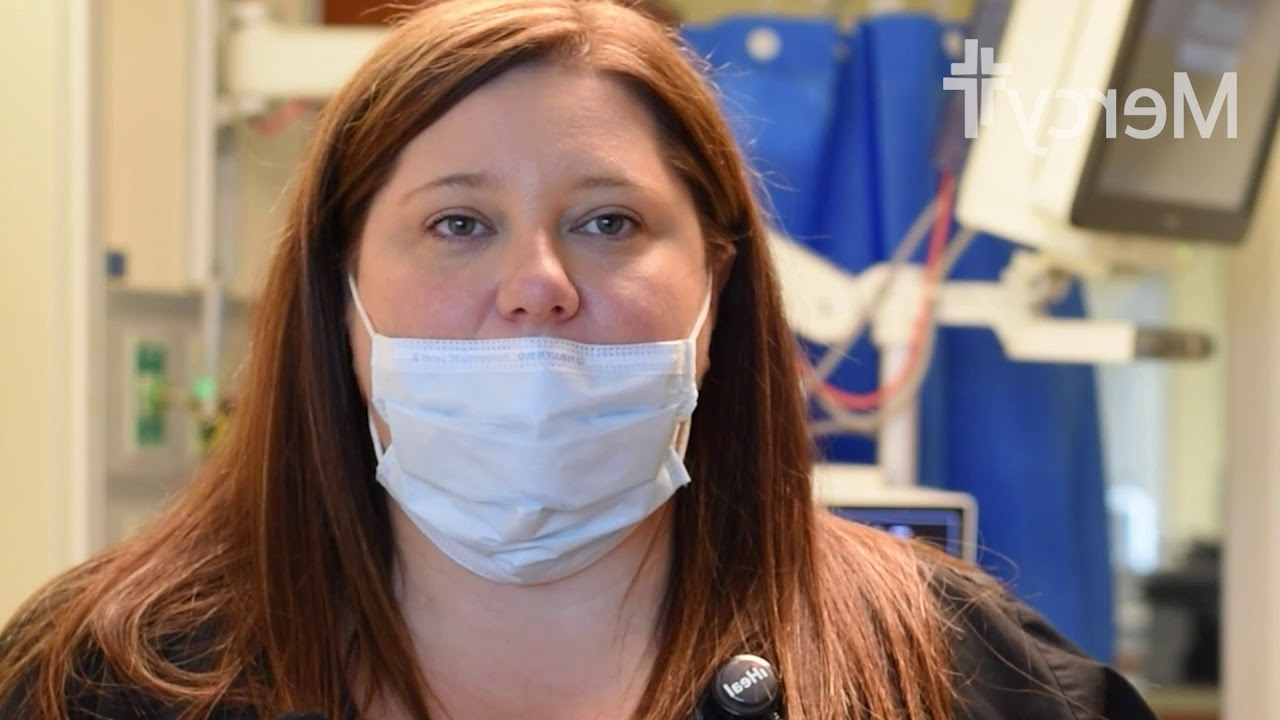mask_weared_incorrect: (373, 72, 685, 566)
